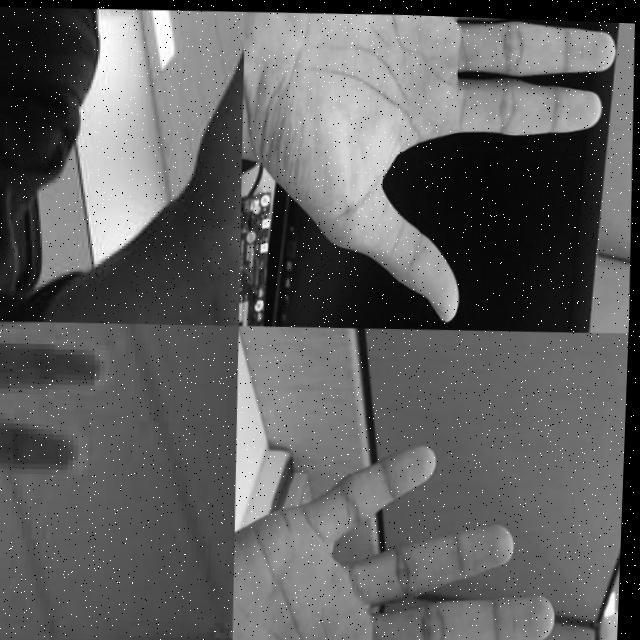no-gloves: (235, 7, 624, 329), (232, 429, 568, 640), (62, 3, 250, 326), (0, 317, 123, 640)
